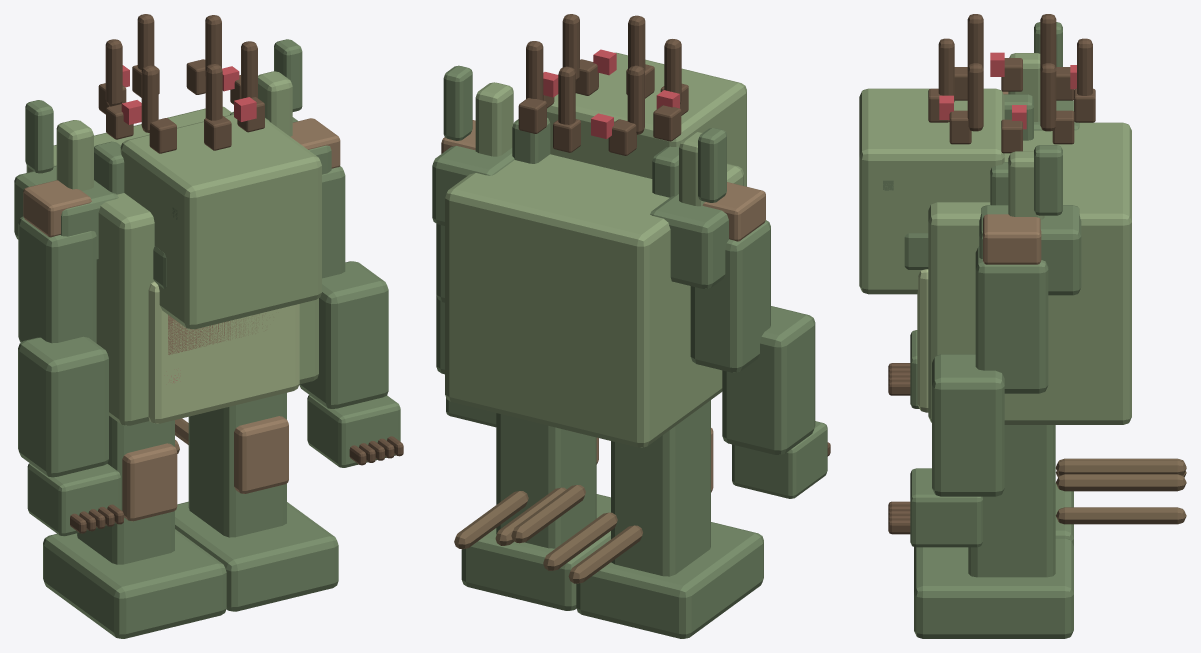
File: hedgemother.glb
3 views of the same model, side by side, from view 1: azimuth 30°, elevation 25°; view 2: azimuth 150°, elevation 25°; view 3: azimuth 270°, elevation 25° (orthographic). The views are drawn at different scales.
Visible parts, largest first — view 1: Head, Belly, Body, Foot_L, Forearm_L, Foot_R, Forearm_R, Leg_R, Arm_L, Leg_L, Hand_L, Hand_R (+22 smaller); view 2: Body, Leg_L, Foot_L, Forearm_L, Head, Leg_R, Arm_L, Foot_R, Shoulder_L, Hand_L, Ear_R_Mid, Shoulder_R (+25 smaller); view 3: Body, Head, Foot_R, Leg_R, Forearm_R, Arm_R, Hand_R, Shoulder_R, Spaulder_R, Root_3, Root_1, Ear_R_Tip (+23 smaller).
Part boxes in pixels (<box>): Head: <box>120,114,321,329</box>; Belly: <box>148,281,299,423</box>; Body: <box>26,106,318,425</box>; Foot_L: <box>43,529,226,638</box>; Forearm_L: <box>18,336,108,477</box>; Foot_R: <box>175,501,338,611</box>; Forearm_R: <box>299,261,388,408</box>; Leg_R: <box>188,393,286,537</box>; Arm_L: <box>18,216,96,343</box>; Leg_L: <box>77,416,174,564</box>; Hand_L: <box>27,463,120,536</box>; Hand_R: <box>307,395,400,467</box>; Body: <box>445,154,743,447</box>; Leg_L: <box>611,400,710,576</box>; Foot_L: <box>576,522,763,638</box>; Forearm_L: <box>722,306,815,454</box>; Head: <box>547,52,746,186</box>; Leg_R: <box>496,413,596,548</box>; Arm_L: <box>690,220,770,372</box>; Foot_R: <box>461,494,610,610</box>; Shoulder_L: <box>650,194,728,288</box>; Hand_L: <box>732,421,827,498</box>; Ear_R_Mid: <box>475,82,513,156</box>; Shoulder_R: <box>432,146,514,225</box>; Body: <box>928,122,1131,424</box>; Head: <box>859,88,1004,294</box>; Foot_R: <box>914,538,1073,638</box>; Leg_R: <box>968,425,1055,577</box>; Forearm_R: <box>932,354,1004,496</box>; Arm_R: <box>975,246,1048,393</box>; Hand_R: <box>910,468,982,547</box>; Shoulder_R: <box>979,205,1081,295</box>; Spaulder_R: <box>983,214,1041,264</box>; Root_3: <box>1056,507,1186,524</box>; Root_1: <box>1056,474,1186,491</box>; Ear_R_Tip: <box>1034,145,1062,215</box>.
Size of the model in its own units: 1.1 by 1.66 by 0.9.
